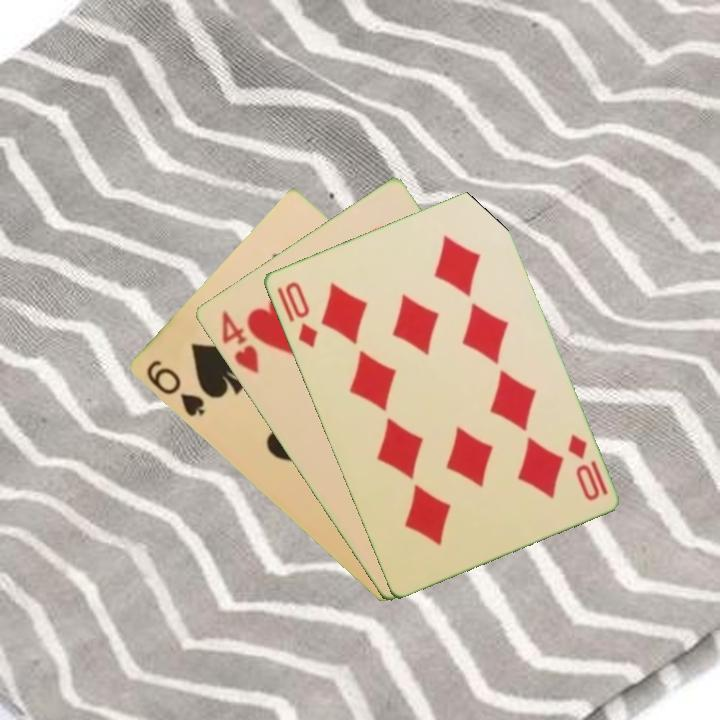10d: (281, 277, 320, 351), (563, 430, 602, 504)
4h: (217, 307, 262, 376)
6s: (142, 356, 208, 420)
